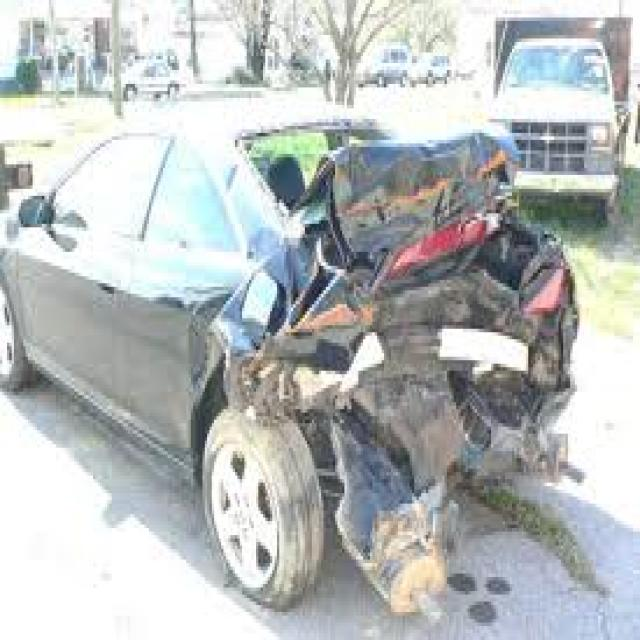severe: (196, 131, 640, 625)
